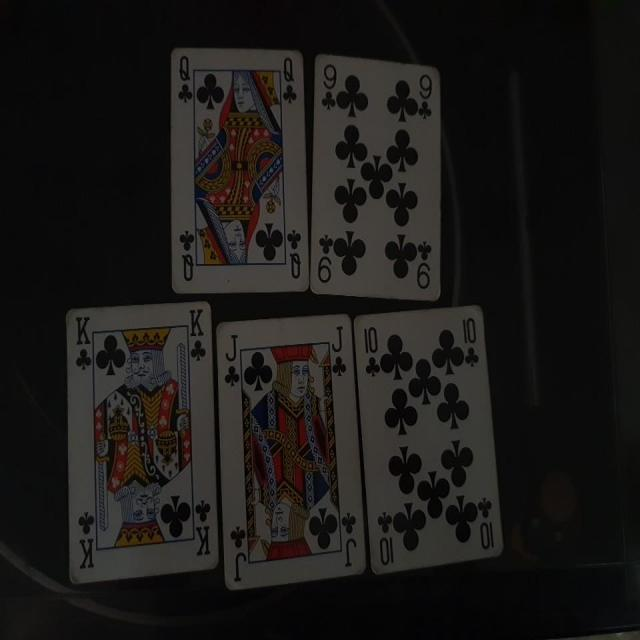10 Trefoils: (354, 302, 503, 577)
9 Trefoils: (310, 54, 444, 305)
J Trefoils: (214, 313, 367, 595)
K Trefoils: (65, 297, 221, 584)
Q Trefoils: (168, 45, 308, 296)
